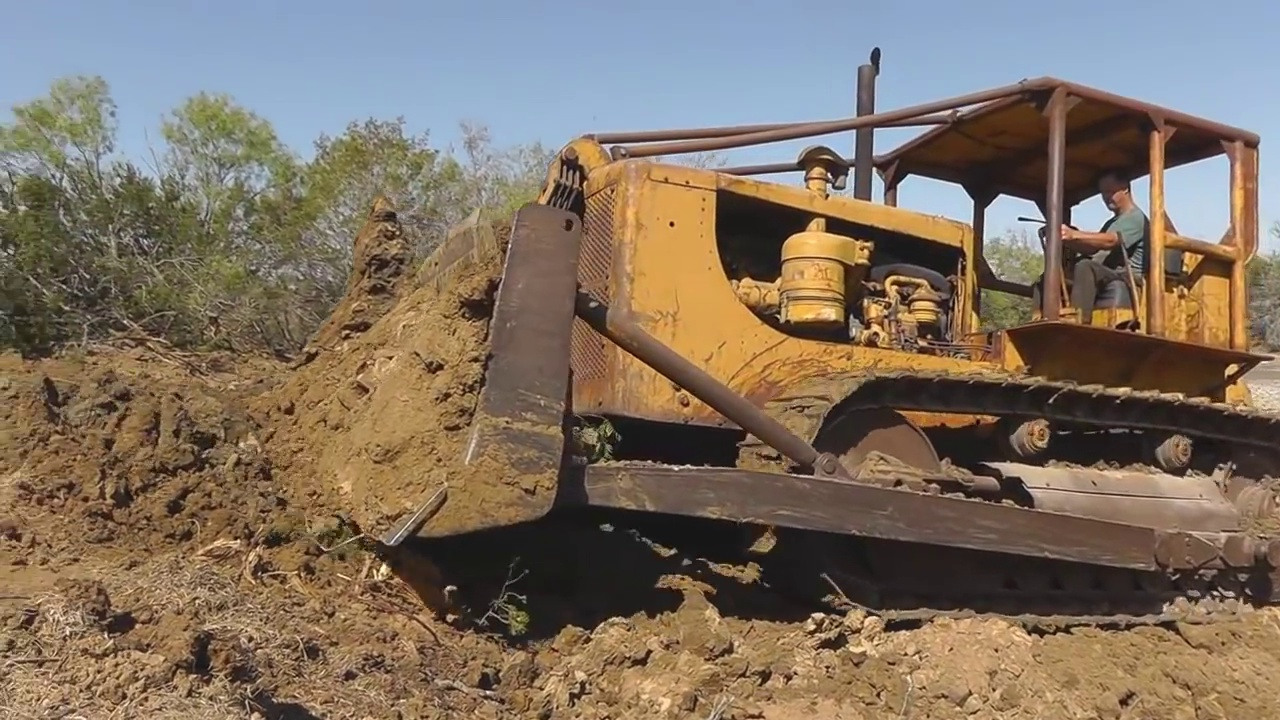bulldozer: (322, 71, 1279, 632)
person: (1044, 170, 1148, 327)
